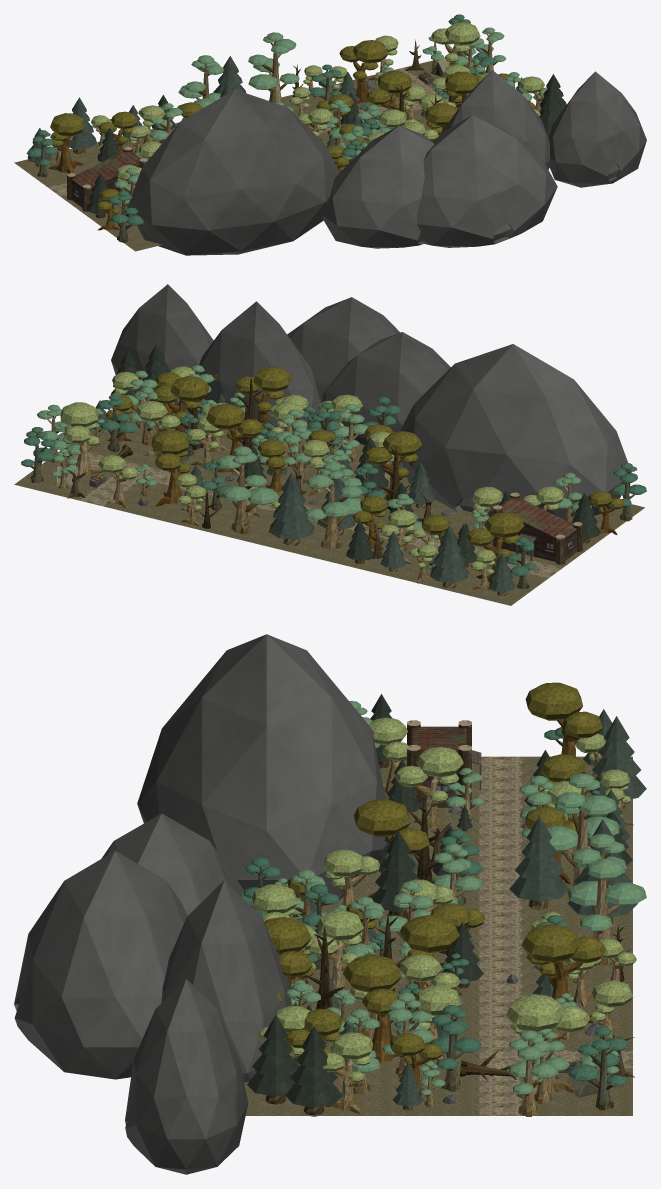
File: outskirts.fbx
3 views of the same model, one above another, from view 1: azimuth 30°, elevation 25°; view 2: azimuth 150°, elevation 25°; view 3: azimuth 270°, elevation 25° (orthographic). The views are drawn at different scales.
Parts seen in each view (by area): view 1: Icosphere.001, Icosphere, tree1.031, tree1.030, tree2.021, ground.008, tree2.019, tree3.028, tree3.021, tavern, dead_tree2.004; view 2: Icosphere, Icosphere.001, ground.008, tree1.031, tree1.030, tree2.021, tree2.019, tree3.021, tree3.028, tavern, dead_tree2.004, ground.007 (+4 smaller); view 3: Icosphere.001, Icosphere, tree1.030, tree1.031, tree2.021, ground.008, tree3.028, ground.007, tree2.019, tree3.021, ground.009, tavern (+2 smaller).
Boxes of the visible parts, x1,y1,x2,y2 form: Icosphere.001: (322,70,646,248); Icosphere: (127,89,339,255); tree1.031: (49,40,535,230); tree1.030: (50,22,547,207); tree2.021: (114,27,532,216); ground.008: (14,55,485,251); tree2.019: (26,14,495,242); tree3.028: (86,74,566,218); tree3.021: (27,56,530,166); tavern: (67,146,148,211); dead_tree2.004: (292,64,461,141); Icosphere: (400,344,631,519); Icosphere.001: (111,284,450,444); ground.008: (14,399,644,605); tree1.031: (105,366,624,582); tree1.030: (60,366,563,589); tree2.021: (37,365,591,551); tree2.019: (21,394,646,589); tree3.021: (93,393,515,596); tree3.028: (111,344,600,567); tavern: (493,492,582,564); dead_tree2.004: (179,377,411,528); ground.007: (68,445,564,572); Icosphere.001: (14,813,293,1174); Icosphere: (137,634,387,905); tree1.030: (252,717,636,1113); tree1.031: (264,682,606,1096); tree2.021: (274,701,646,1116); ground.008: (244,756,632,1115); tree3.028: (247,694,632,1116); ground.007: (473,756,500,1115); tree2.019: (241,727,628,1110); tree3.021: (293,709,646,1110); ground.009: (500,756,526,1115); tavern: (407,720,481,809).
Size of the model in its own units: 7175 by 2182 by 4766.
